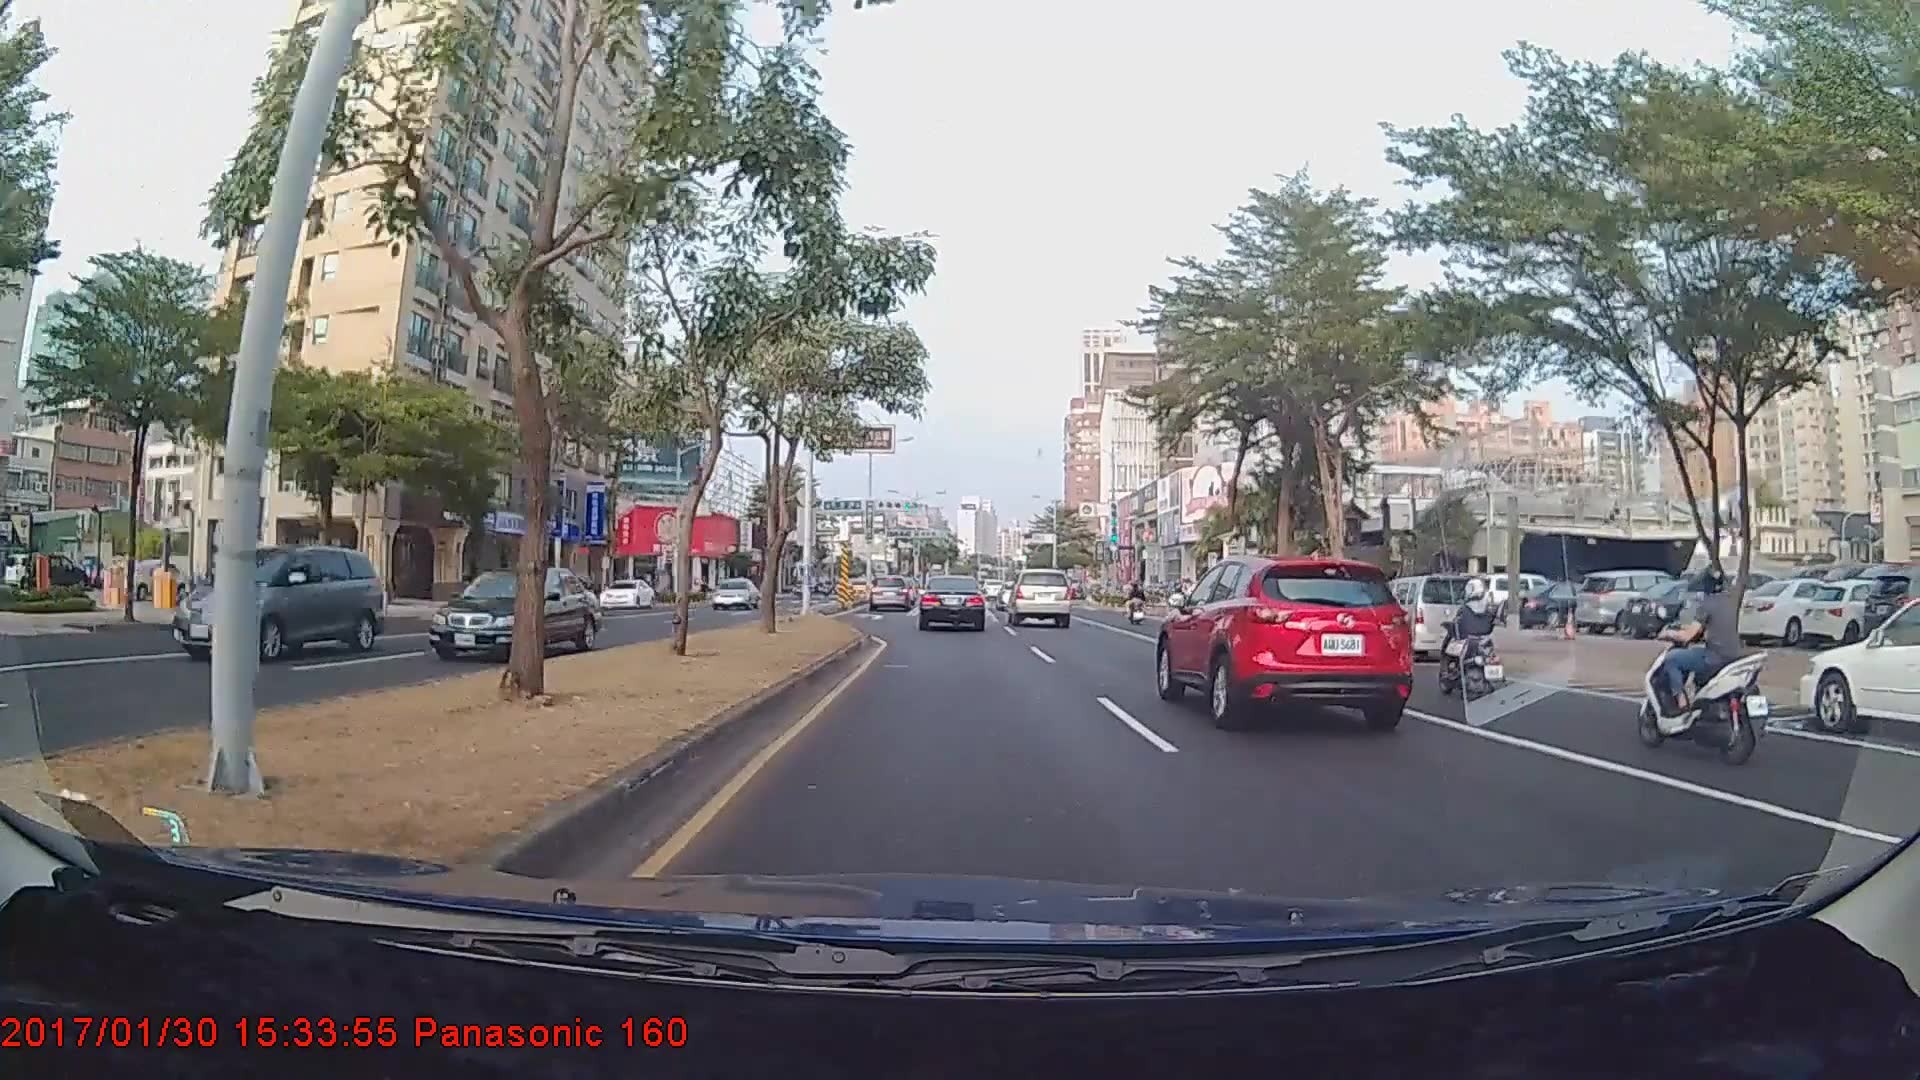rider: (1626, 555, 1777, 766), (1424, 574, 1517, 705), (1127, 583, 1154, 628)
vehicle: (1153, 550, 1411, 730), (170, 544, 385, 658), (1801, 588, 1918, 741), (426, 564, 602, 660), (1360, 573, 1476, 661), (1569, 570, 1696, 636), (918, 574, 987, 631), (1008, 567, 1072, 627), (867, 572, 916, 613), (600, 577, 653, 610), (708, 576, 760, 609)
